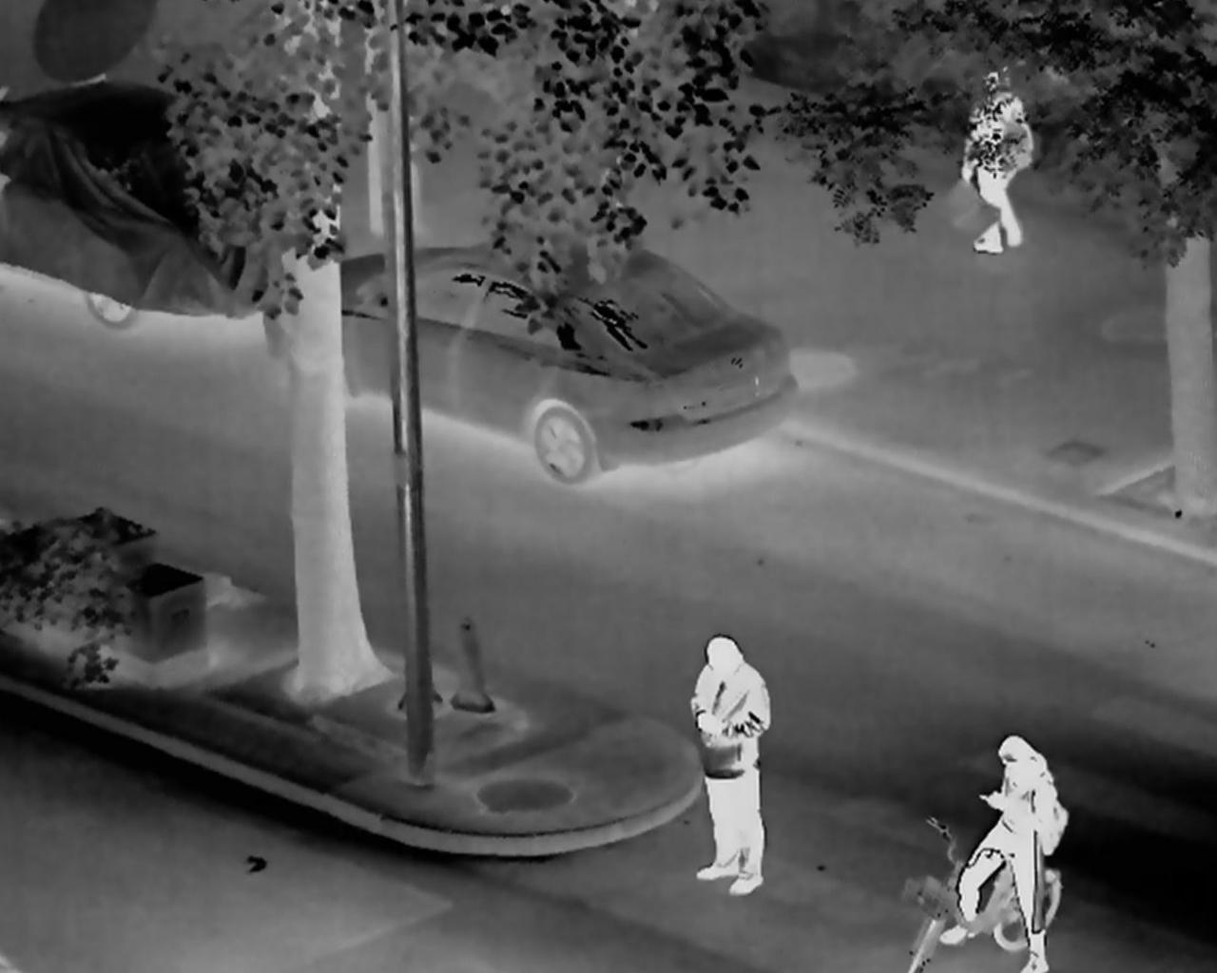person: (939, 735, 1059, 973), (687, 637, 770, 901), (951, 61, 1034, 258)
